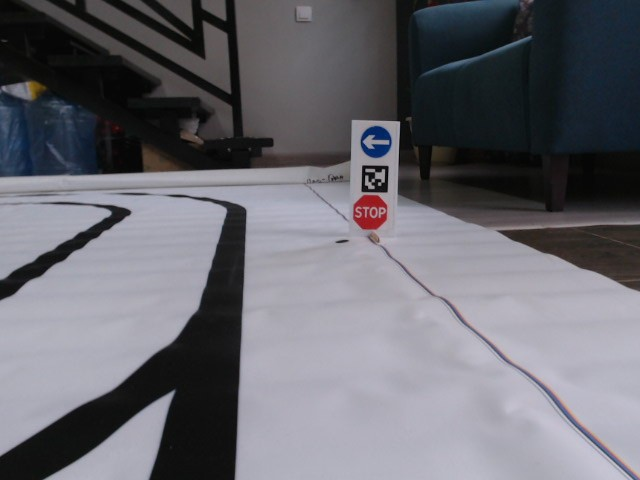Stop: (351, 194, 389, 231)
